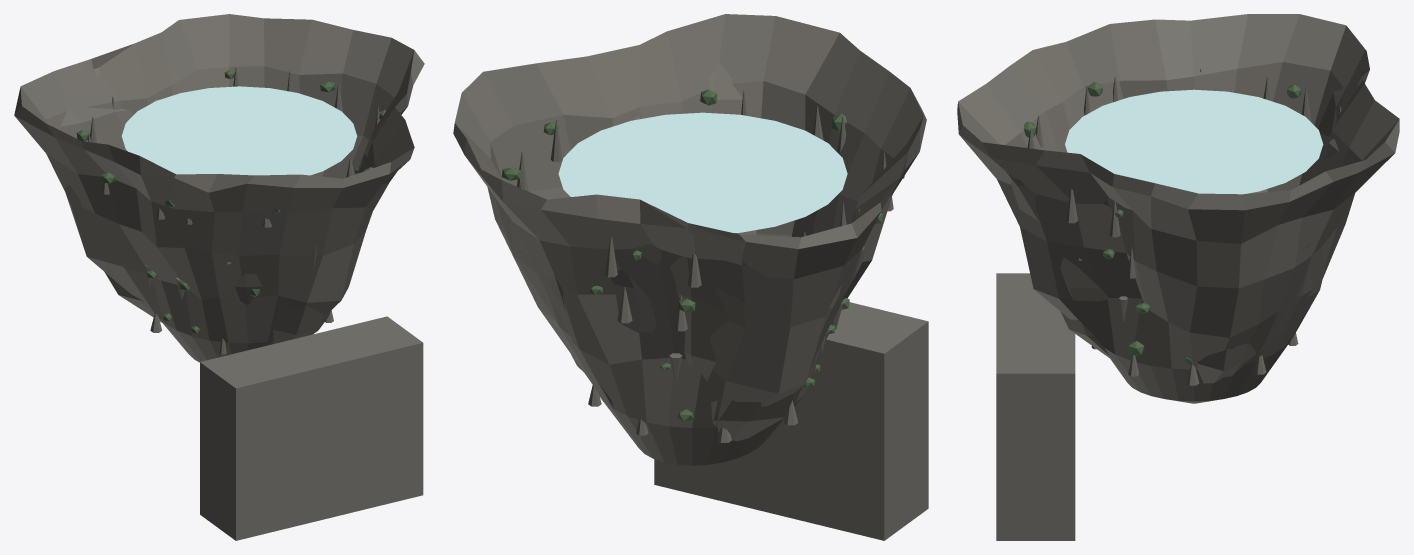
File: cenote-prueba-6.fbx
3 renders of one model, left to right at view 1: azimuth 30°, elevation 25°; view 2: azimuth 150°, elevation 25°; view 3: azimuth 270°, elevation 25°, orthographic. The views are drawn at different scales.
Parts seen in each view (by area): view 1: Cenote_LOD0, Cenote_Agua_Cristalina; view 2: Cenote_LOD0, Cenote_Agua_Cristalina; view 3: Cenote_LOD0, Cenote_Agua_Cristalina.
Boxes of the visible parts, box(x1,y1,x2,y2) form: Cenote_LOD0: box(14, 14, 424, 540); Cenote_Agua_Cristalina: box(121, 86, 357, 175); Cenote_LOD0: box(453, 14, 928, 540); Cenote_Agua_Cristalina: box(558, 112, 847, 232); Cenote_LOD0: box(957, 14, 1399, 540); Cenote_Agua_Cristalina: box(1065, 89, 1323, 194).
Size of what is drawn, in the model's own units: 3439 by 3290 by 3357.
